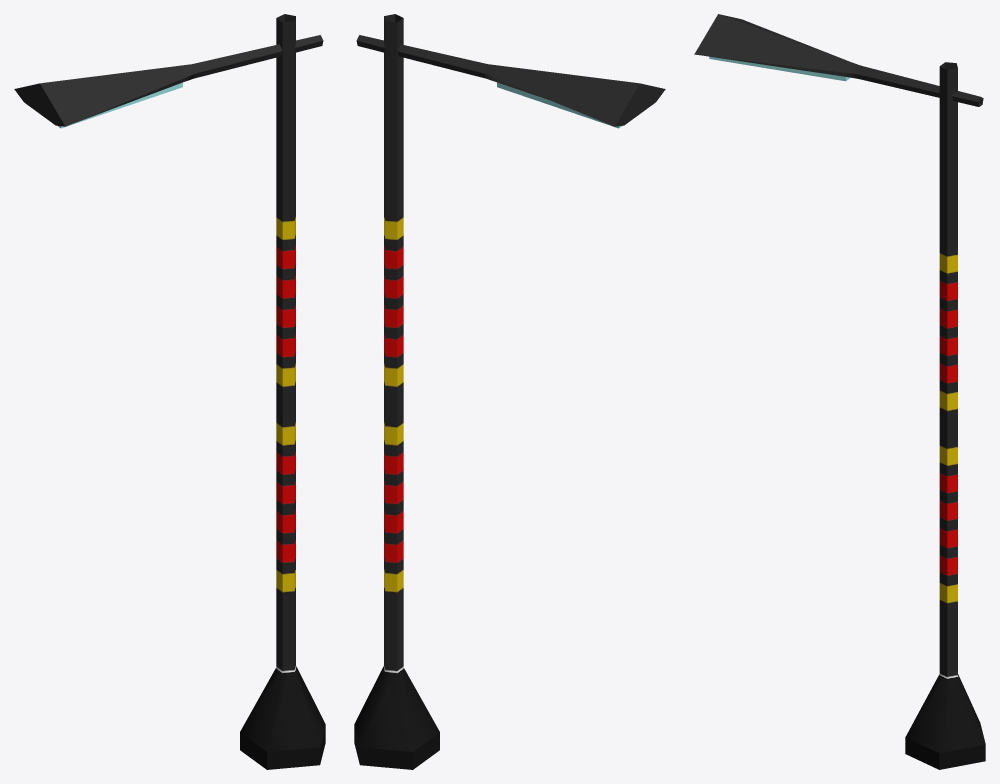
The model's file is Street Light.fbx.
The picture shows the model from 3 angles, left to right: view 1: azimuth 30°, elevation 25°; view 2: azimuth 150°, elevation 25°; view 3: azimuth 330°, elevation 25°; orthographic projection. The views are drawn at different scales.
Visible parts, largest first — view 1: Street_Light; view 2: Street_Light; view 3: Street_Light.
Part boxes in pixels (left/top/right/bottom): Street_Light: left=14, top=14, right=325, bottom=769; Street_Light: left=354, top=14, right=665, bottom=769; Street_Light: left=694, top=14, right=985, bottom=769.
Bounding box in the file's own units: 29.72 × 72.84 × 9.25.
1 material, 1 textured.
